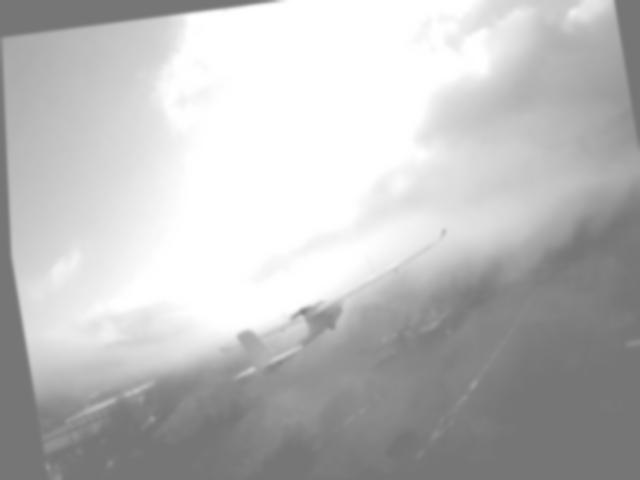hedef: (163, 210, 481, 427)
